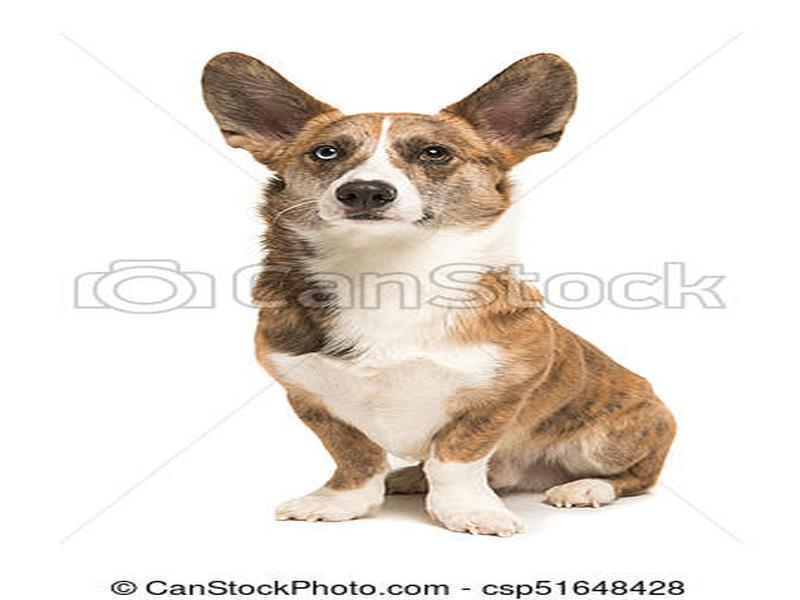corgi: (199, 51, 579, 232)
